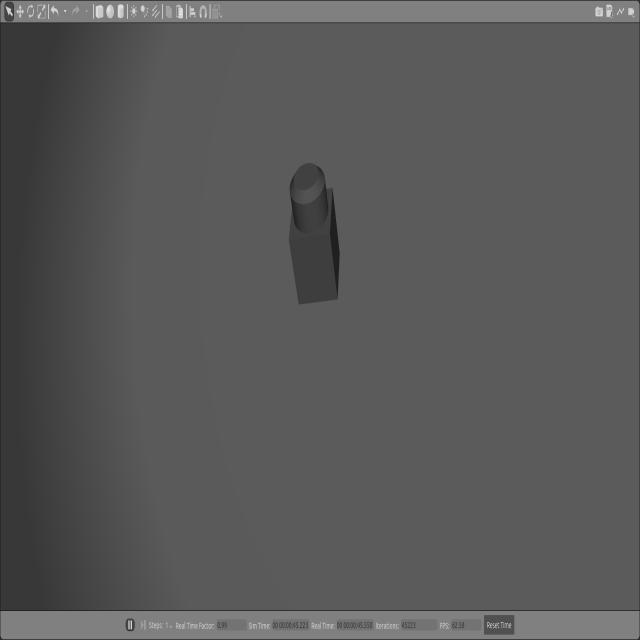block1: (289, 163, 340, 304)
